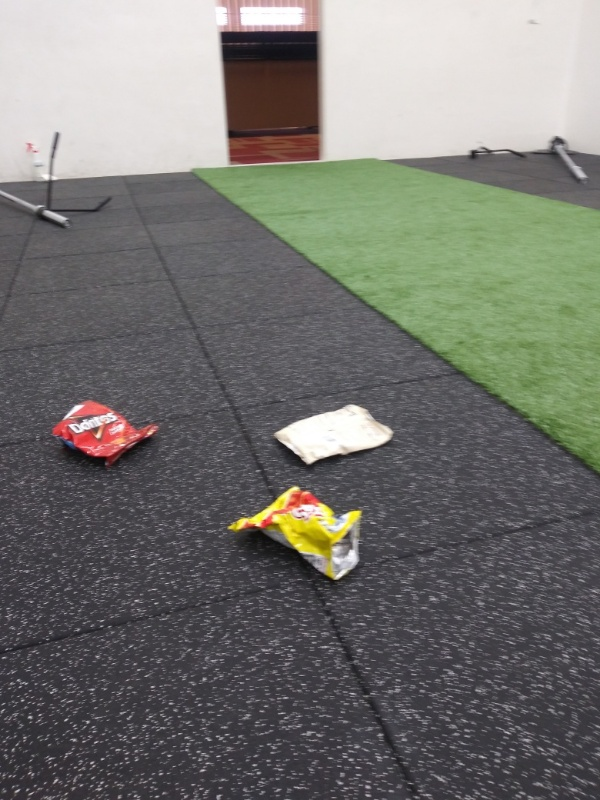bag: (221, 480, 366, 586), (263, 401, 398, 472), (48, 397, 166, 472)
